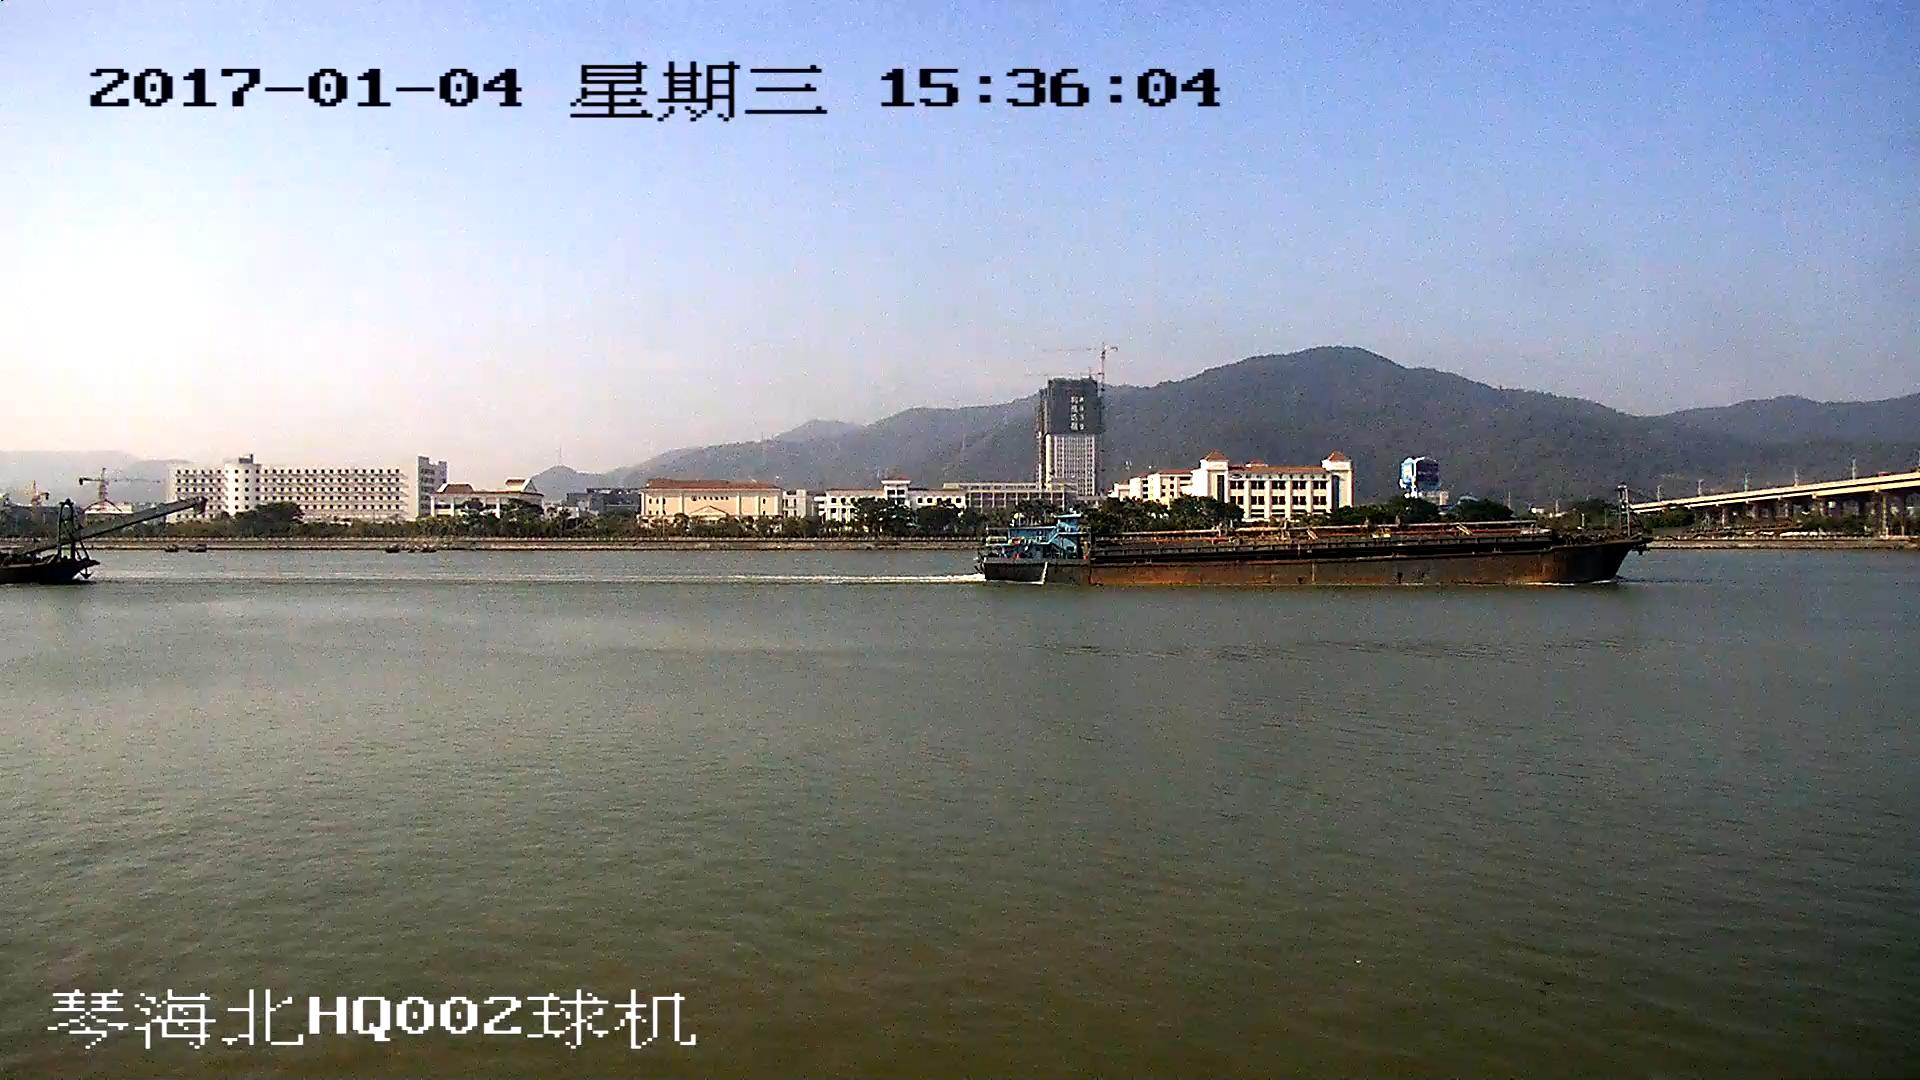bulk cargo carrier: (977, 514, 1646, 587)
